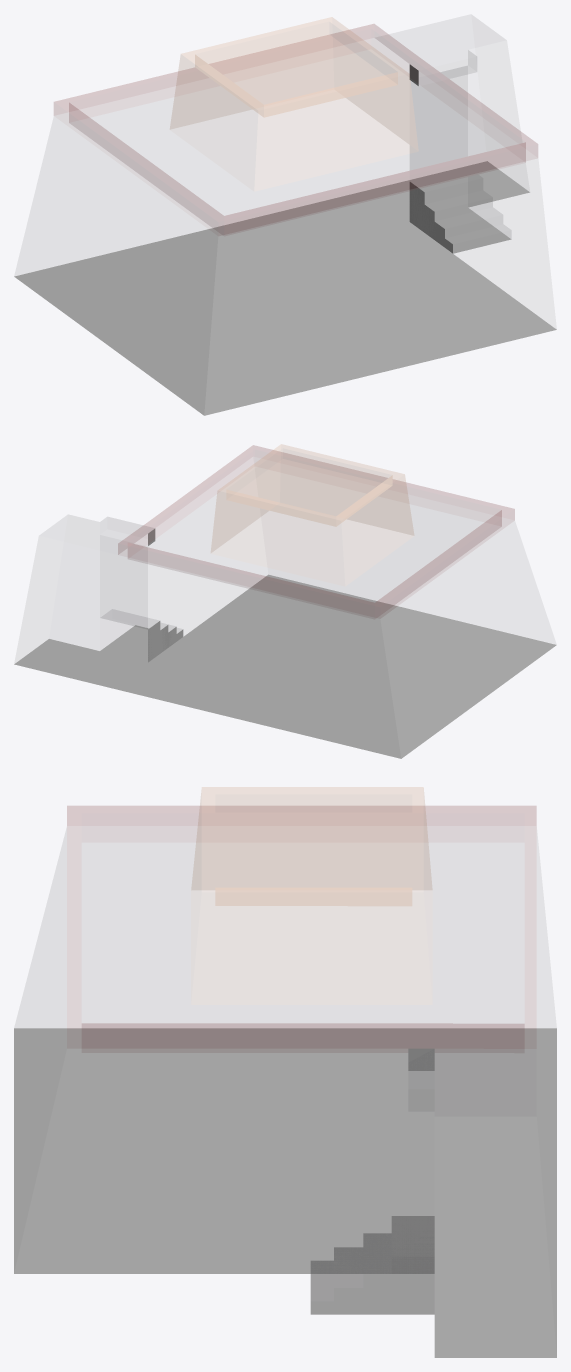
Rendered from casa1.obj.
3 renders of one model, top to bottom at view 1: azimuth 30°, elevation 25°; view 2: azimuth 150°, elevation 25°; view 3: azimuth 270°, elevation 25°, orthographic. The views are drawn at different scales.
Visible parts, largest first — view 1: cube; view 2: cube; view 3: cube.
Boxes of the visible parts, box(x1,y1,x2,y2) form: cube: box(14, 15, 556, 415); cube: box(14, 444, 556, 758); cube: box(14, 787, 556, 1357).
Bounding box in the file's own units: 14.84 × 6.82 × 10.33.
